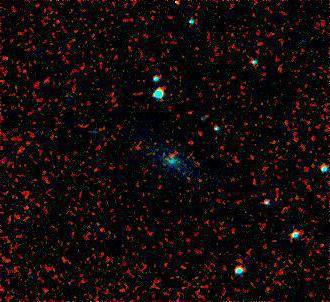star: (150, 138, 180, 168)
